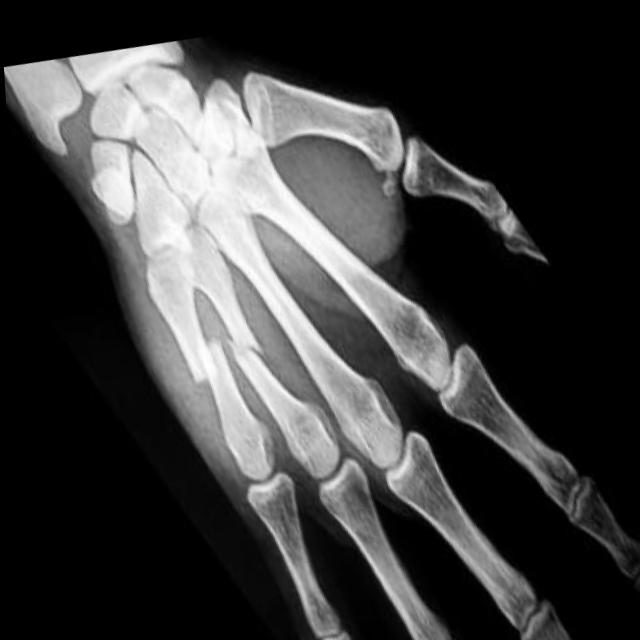fracture: (162, 343, 220, 396), (216, 318, 274, 366)
